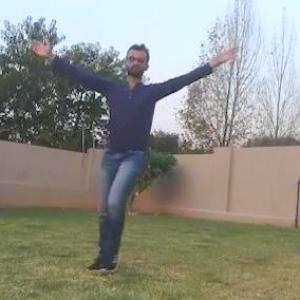takeoff: (28, 39, 232, 267)
